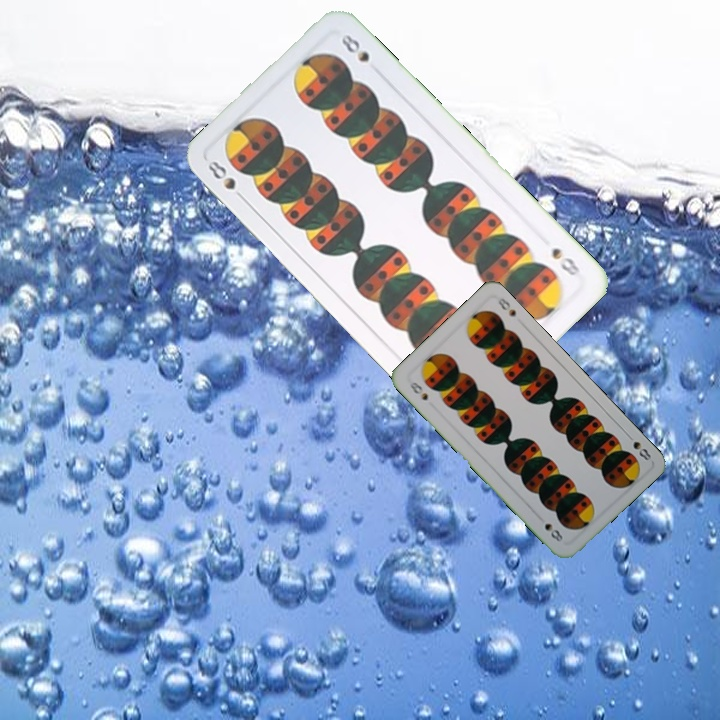S8: (547, 243, 586, 279), (204, 156, 238, 193), (622, 429, 654, 463), (405, 378, 431, 403)
